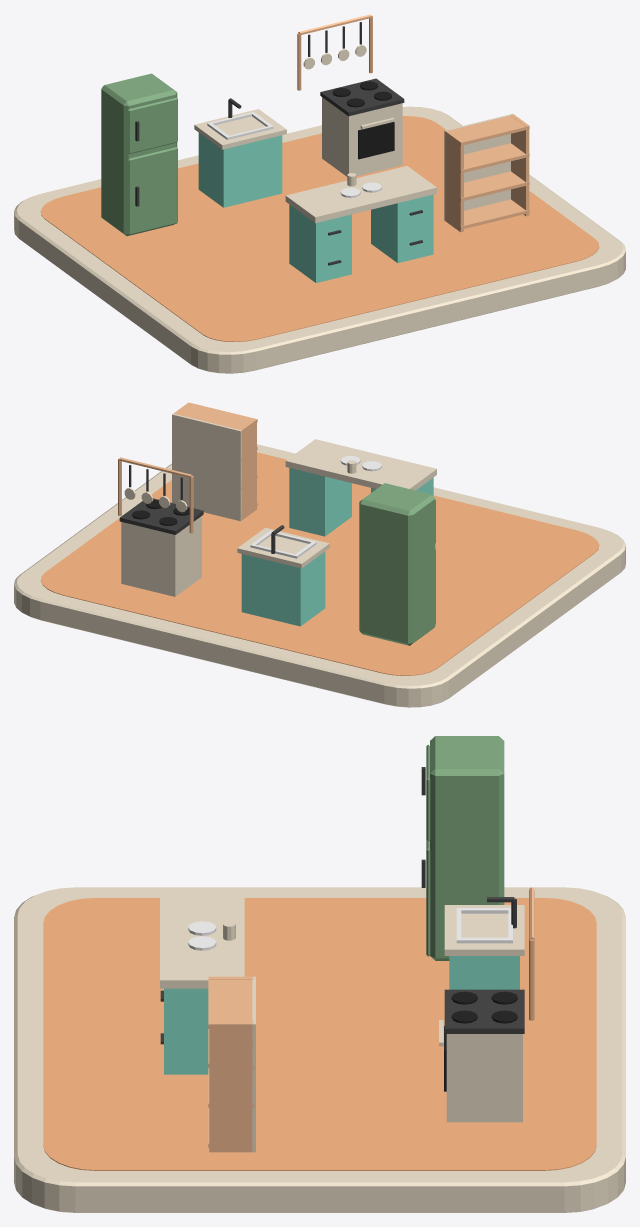
The picture shows the model from 3 angles, top to bottom: view 1: azimuth 30°, elevation 25°; view 2: azimuth 150°, elevation 25°; view 3: azimuth 270°, elevation 25°; orthographic projection. The views are drawn at different scales.
Parts seen in each view (by area): view 1: COM-02 Floor Surface, COM-01 Rounded Base Direct, Cabinet, Cabinet.001, Worktop, Stove, Door, Storage module, Storage module.001, Door.001, Counter, Back (+8 smaller); view 2: COM-02 Floor Surface, COM-01 Rounded Base Direct, Cabinet, Back, Stove, Cabinet.001, Worktop, Storage module.001, Counter, Side, Hob, Shelf.003; view 3: COM-02 Floor Surface, COM-01 Rounded Base Direct, Cabinet, Stove, Worktop, Side.001, Storage module.001, Counter, Hob, Cabinet.001, Shelf.003, Back.
Part boxes in pixels (bbox=[...]): COM-02 Floor Surface: bbox=[40, 116, 599, 341]; COM-01 Rounded Base Direct: bbox=[14, 106, 625, 373]; Cabinet: bbox=[101, 73, 177, 236]; Cabinet.001: bbox=[198, 133, 282, 207]; Worktop: bbox=[285, 166, 436, 223]; Stove: bbox=[322, 97, 402, 176]; Door: bbox=[128, 147, 177, 234]; Storage module: bbox=[289, 204, 351, 282]; Storage module.001: bbox=[371, 194, 433, 262]; Door.001: bbox=[128, 97, 177, 153]; Counter: bbox=[194, 109, 286, 149]; Back: bbox=[444, 114, 513, 220]; COM-02 Floor Surface: bbox=[40, 452, 599, 675]; COM-01 Rounded Base Direct: bbox=[14, 444, 625, 707]; Cabinet: bbox=[359, 483, 435, 645]; Back: bbox=[172, 413, 241, 521]; Stove: bbox=[121, 516, 201, 596]; Cabinet.001: bbox=[241, 551, 325, 626]; Worktop: bbox=[285, 439, 436, 490]; Storage module.001: bbox=[289, 468, 351, 536]; Counter: bbox=[237, 527, 329, 568]; Side: bbox=[239, 418, 256, 520]; Hob: bbox=[119, 498, 203, 534]; Shelf.003: bbox=[177, 402, 257, 433]; COM-02 Floor Surface: bbox=[43, 898, 596, 1170]; COM-01 Rounded Base Direct: bbox=[14, 887, 625, 1212]; Cabinet: bbox=[430, 736, 504, 960]; Stove: bbox=[446, 1034, 522, 1122]; Worktop: bbox=[160, 895, 244, 988]; Side.001: bbox=[209, 1022, 253, 1152]; Storage module.001: bbox=[164, 988, 208, 1074]; Counter: bbox=[444, 905, 524, 955]; Hob: bbox=[444, 989, 524, 1033]; Cabinet.001: bbox=[449, 956, 519, 989]; Shelf.003: bbox=[208, 976, 254, 1028]; Back: bbox=[252, 976, 255, 1152].
Size of the model in its own units: 6 by 2.1 by 5.2.
Materials: 1 (1 with a texture image).
